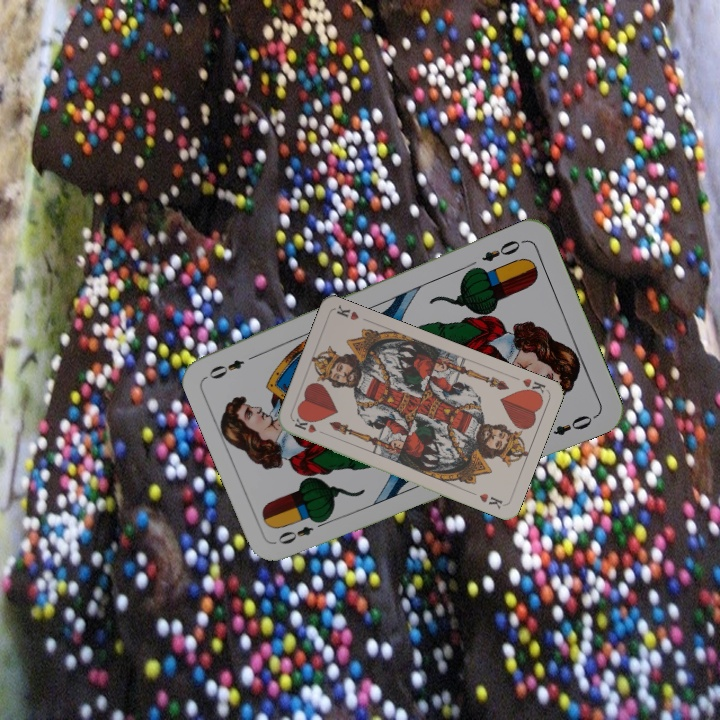EO: (273, 515, 330, 547), (478, 235, 527, 264)
HK: (290, 414, 330, 438), (518, 374, 549, 400)
